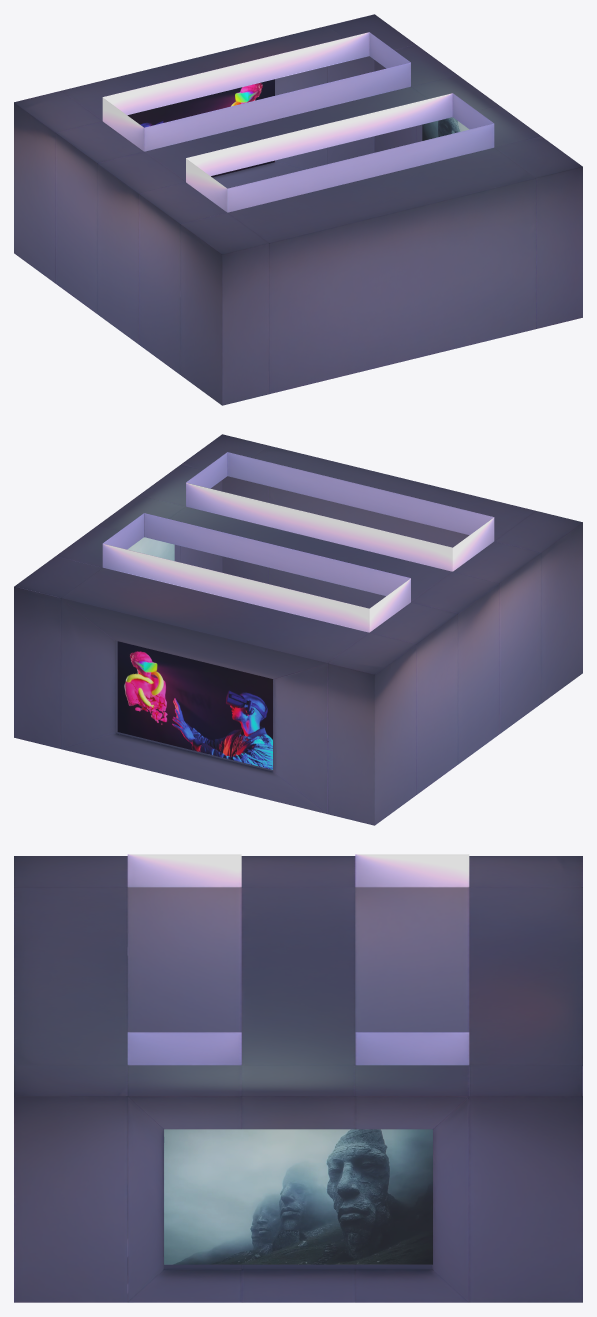
File: vr_art_gallery.glb
3 renders of one model, top to bottom at view 1: azimuth 30°, elevation 25°; view 2: azimuth 150°, elevation 25°; view 3: azimuth 270°, elevation 25°, orthographic. The views are drawn at different scales.
Parts seen in each view (by area): view 1: Cube_0; view 2: Cube_0; view 3: Cube_0.
Part boxes in pixels (x1,y1,x2,y2): Cube_0: (14, 14, 582, 405); Cube_0: (14, 434, 582, 825); Cube_0: (14, 854, 582, 1302).
Size of the model in its own units: 10 by 4.64 by 10.
4 materials, 4 textured.
